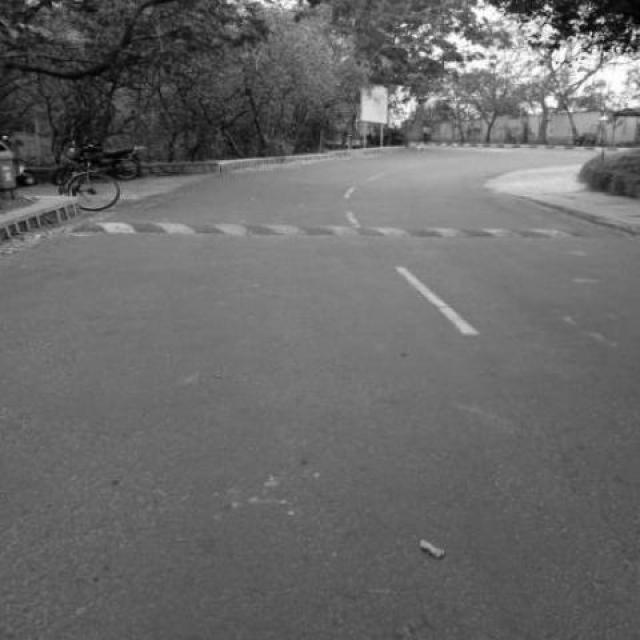Speed Bump: (74, 219, 601, 238)
